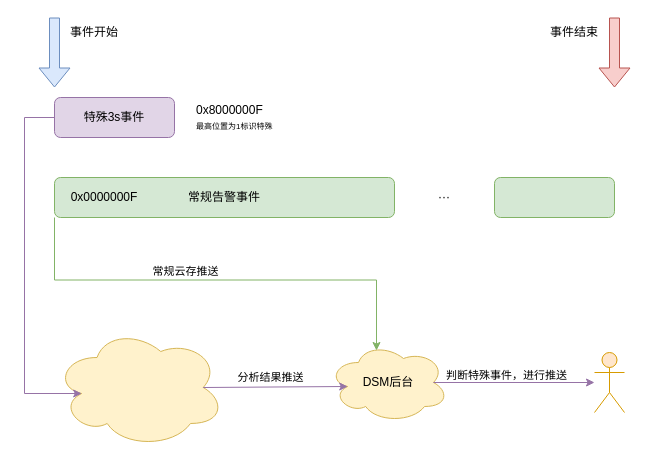
The diagram is 648 pixels wide and 465 high, and some of its shapes have lost their labels. Each missing label, with the centre of its shape:
Actor: (x=609, y=382)
TWeSee AI分析: (x=139, y=387)
